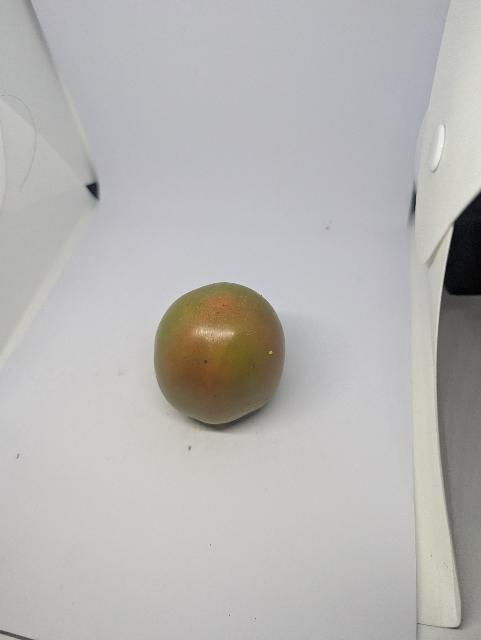breaker: (146, 282, 289, 434)
